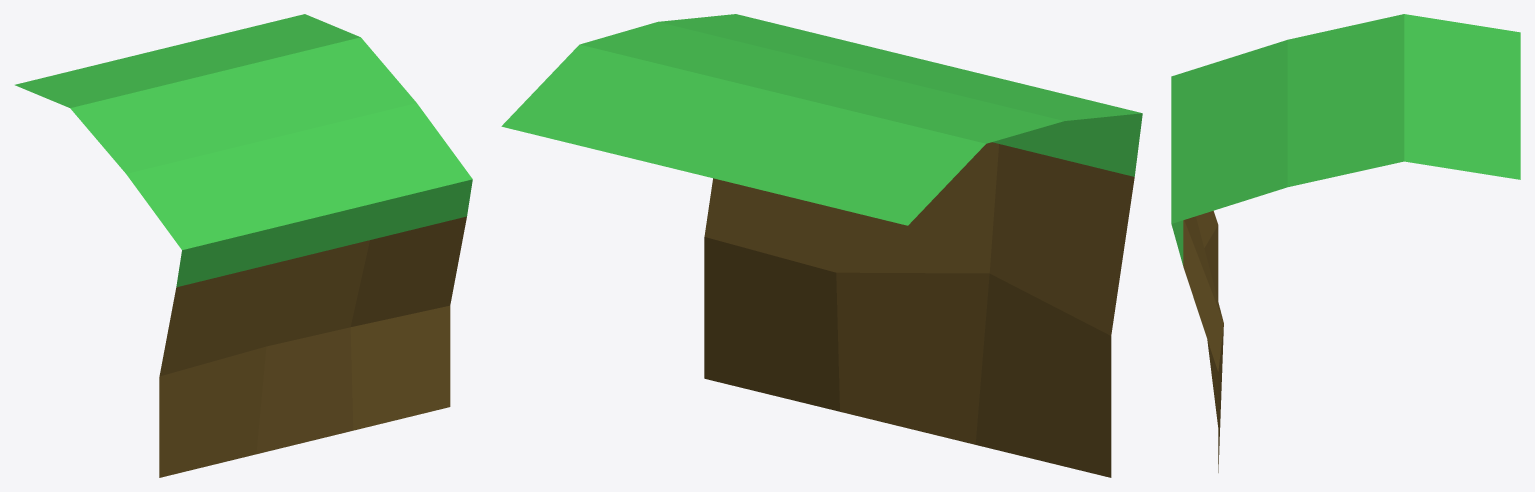
Rendered from Platformer_U.fbx.
3 views of the same model, side by side, from view 1: azimuth 30°, elevation 25°; view 2: azimuth 150°, elevation 25°; view 3: azimuth 270°, elevation 25° (orthographic). The views are drawn at different scales.
Parts seen in each view (by area): view 1: Platformer_U; view 2: Platformer_U; view 3: Platformer_U.
Part boxes in pixels (x1,y1,x2,y2): Platformer_U: [15, 14, 472, 477]; Platformer_U: [501, 14, 1142, 477]; Platformer_U: [1171, 14, 1520, 472].
Size of the model in its own units: 200 by 200 by 200.
